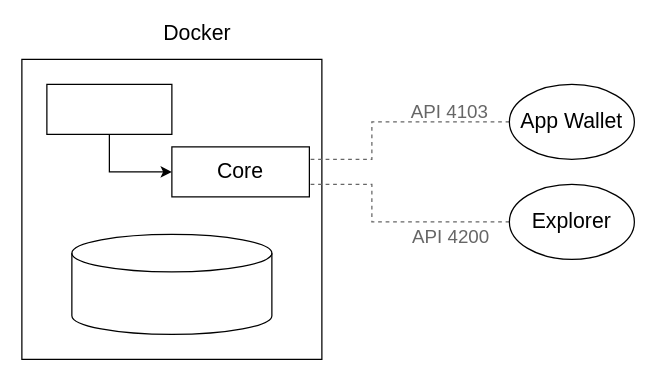
The diagram is 656 pixels wide and 381 high, and some of its shapes have lost their labels. Here are the shapes that lost their labels. From the top down, the centre of each, then its label:
At point 109,108: "Deployer".
At point 171,283: "Base de datos".
